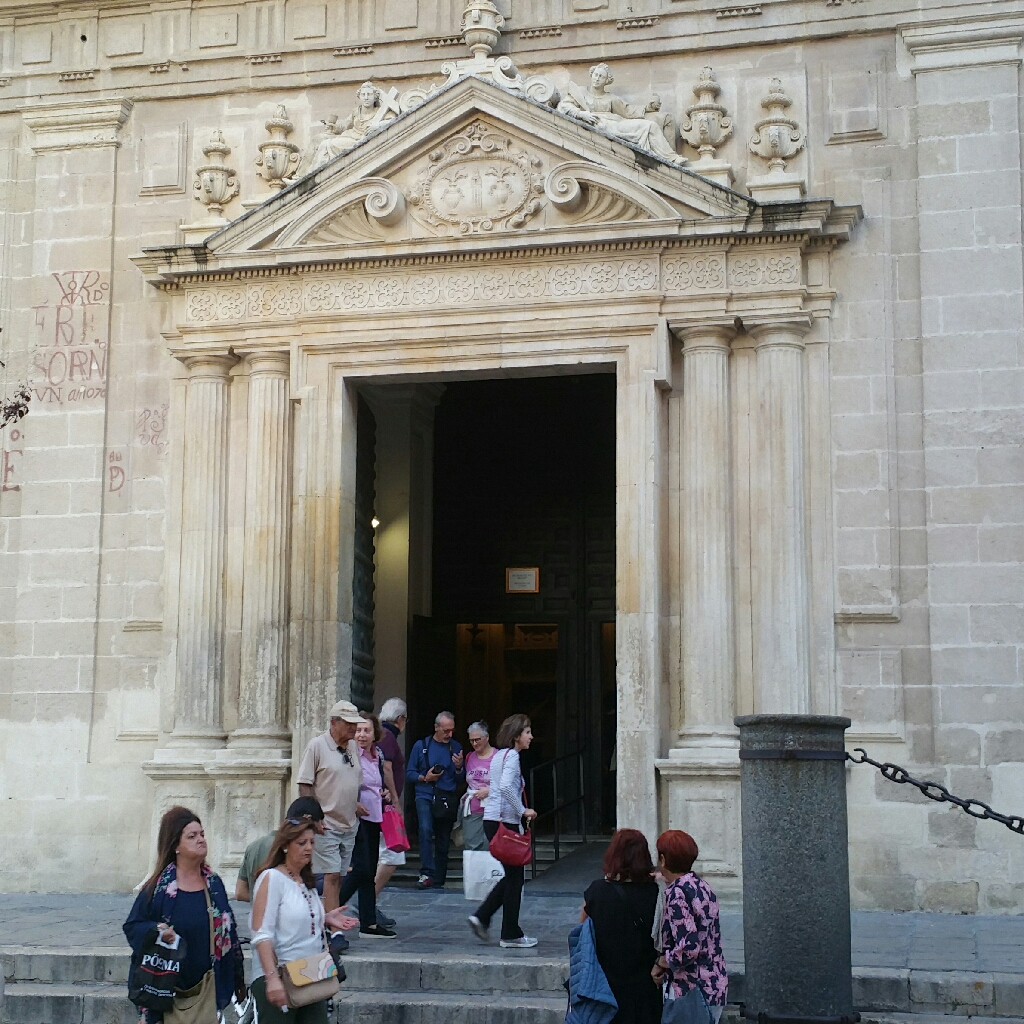fronton: (202, 72, 764, 260)
fronton-partido: (270, 158, 684, 258)
vano-adintelado: (291, 312, 676, 897)
